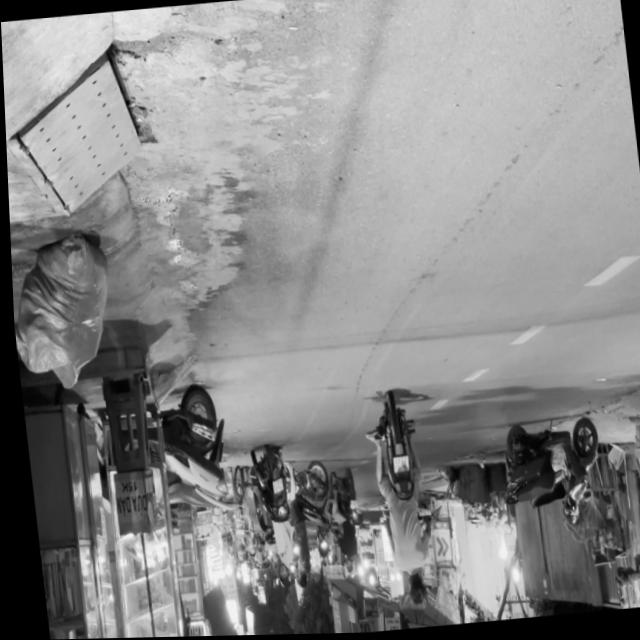licenseplate: (361, 395, 435, 615)
motorcyclist: (402, 573, 423, 611)
nohelmet: (388, 457, 406, 475)
